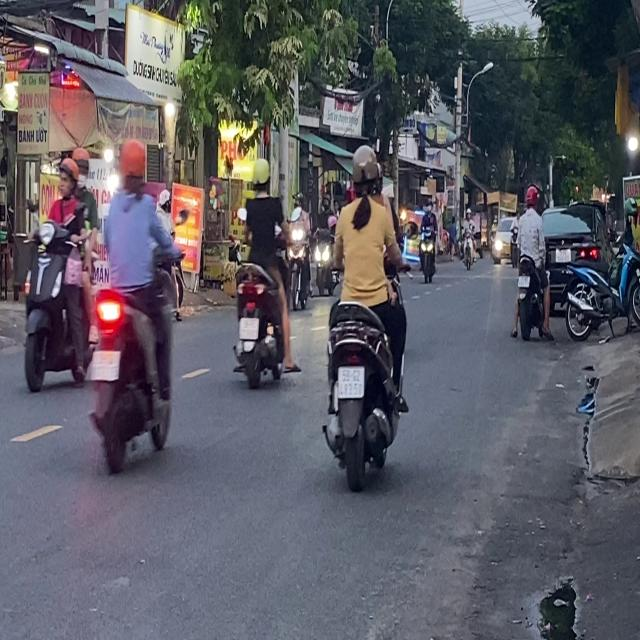helmet: (349, 144, 380, 198), (117, 137, 147, 191), (56, 156, 78, 198), (250, 156, 270, 194), (71, 148, 89, 181), (524, 184, 538, 209)
licenseplate: (87, 135, 181, 472), (320, 141, 410, 491), (19, 152, 96, 393), (230, 155, 296, 388), (512, 183, 552, 341)
nohelmet: (91, 350, 120, 380), (337, 366, 363, 397), (240, 317, 258, 339), (518, 275, 530, 287)
